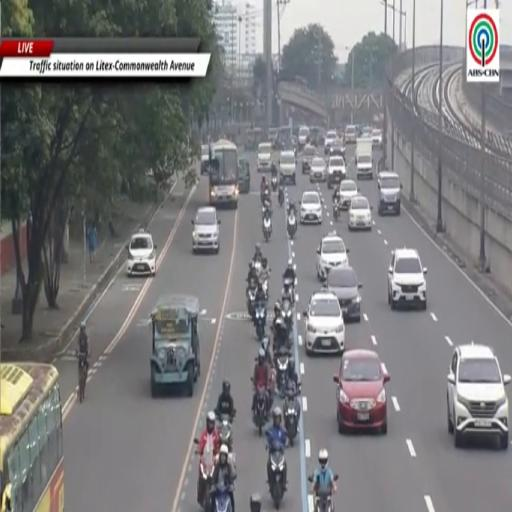bus: (0, 363, 64, 511), (209, 140, 239, 209)
car: (447, 344, 510, 450), (334, 349, 390, 434), (304, 291, 344, 355), (388, 248, 427, 310), (327, 266, 362, 322), (316, 232, 348, 280), (126, 229, 156, 276), (192, 206, 220, 253), (378, 171, 402, 215), (348, 196, 372, 230), (300, 191, 322, 223), (327, 156, 347, 188), (340, 180, 359, 210), (279, 151, 296, 184), (257, 142, 272, 172), (310, 157, 326, 183), (239, 158, 250, 194), (302, 146, 316, 173), (324, 131, 337, 154), (343, 125, 358, 144), (330, 138, 345, 156), (298, 126, 309, 148), (201, 144, 209, 174), (371, 129, 383, 148), (360, 126, 372, 137)
jeepney: (151, 295, 200, 396)
motorcycle: (197, 446, 214, 511), (269, 442, 285, 509), (283, 387, 299, 445), (218, 414, 235, 468), (274, 312, 291, 353), (253, 387, 267, 436), (276, 351, 289, 393), (218, 415, 232, 453), (213, 485, 232, 511), (282, 296, 293, 335), (255, 302, 266, 341), (315, 490, 334, 511), (247, 281, 257, 319), (282, 278, 294, 306), (263, 216, 272, 242), (287, 213, 296, 238), (261, 272, 268, 298), (261, 186, 270, 204), (333, 198, 339, 220), (278, 186, 284, 206), (271, 175, 278, 192), (255, 261, 261, 275)
truck: (355, 138, 372, 179)
